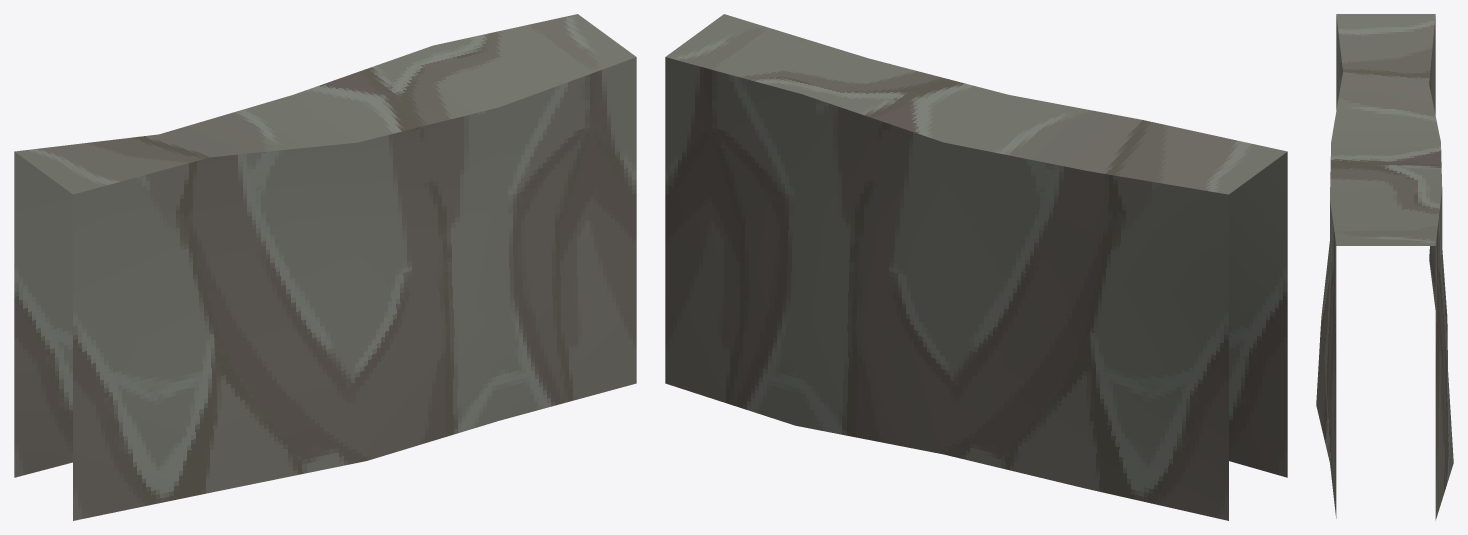
The model's file is wall.glb.
3 views of the same model, side by side, from view 1: azimuth 30°, elevation 25°; view 2: azimuth 150°, elevation 25°; view 3: azimuth 270°, elevation 25° (orthographic). The views are drawn at different scales.
Parts seen in each view (by area): view 1: wall; view 2: wall; view 3: wall.
Boxes of the visible parts, bbox=[...] form: wall: bbox=[14, 14, 636, 520]; wall: bbox=[665, 14, 1287, 520]; wall: bbox=[1316, 14, 1453, 520].
Bounding box in the file's own units: 2 × 1.11 × 0.5015.
1 material, 1 textured.
